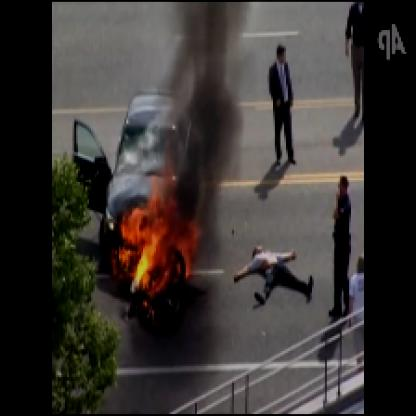Fire: (113, 163, 204, 301)
Smoke: (165, 2, 253, 219)
